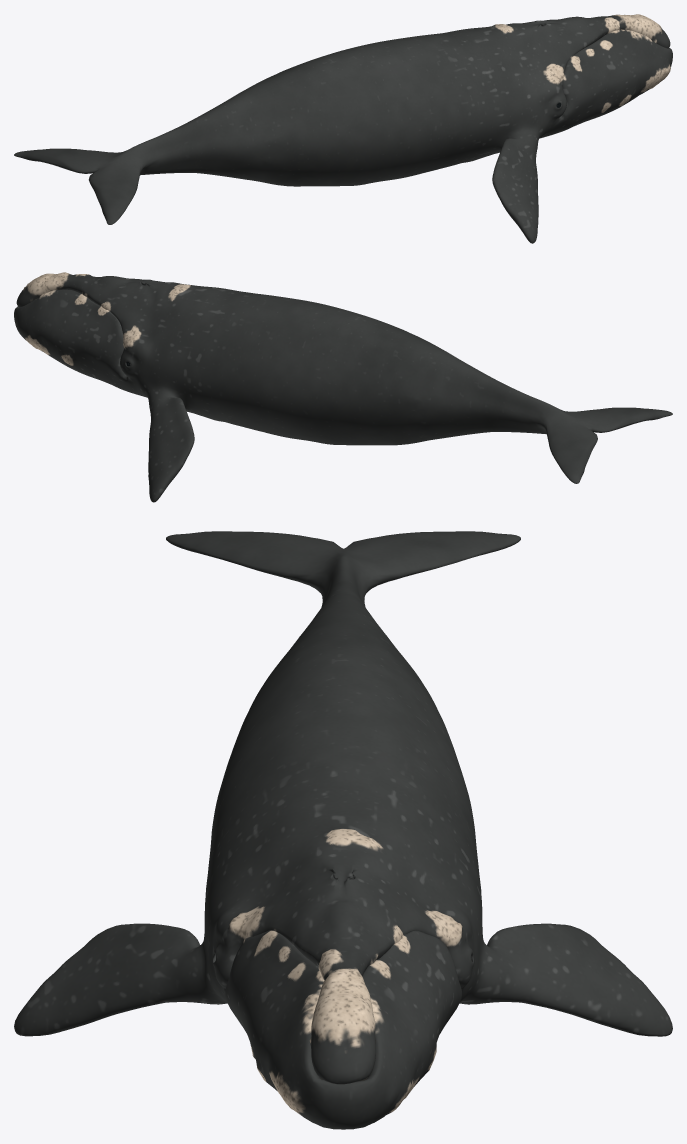
Rendered from model-right-whale-pacific-v0664.glb.
The picture shows the model from 3 angles, top to bottom: view 1: azimuth 30°, elevation 25°; view 2: azimuth 150°, elevation 25°; view 3: azimuth 270°, elevation 25°; orthographic projection. The views are drawn at different scales.
Visible parts, largest first — view 1: Whale_Bake_0; view 2: Whale_Bake_0; view 3: Whale_Bake_0.
Part boxes in pixels (box(x1,y1,x2,y2)): Whale_Bake_0: box(14, 14, 672, 243); Whale_Bake_0: box(14, 272, 672, 502); Whale_Bake_0: box(14, 531, 672, 1129).
Bounding box in the file's own units: 3.84 × 0.8887 × 1.95.
3 materials, 1 textured.
